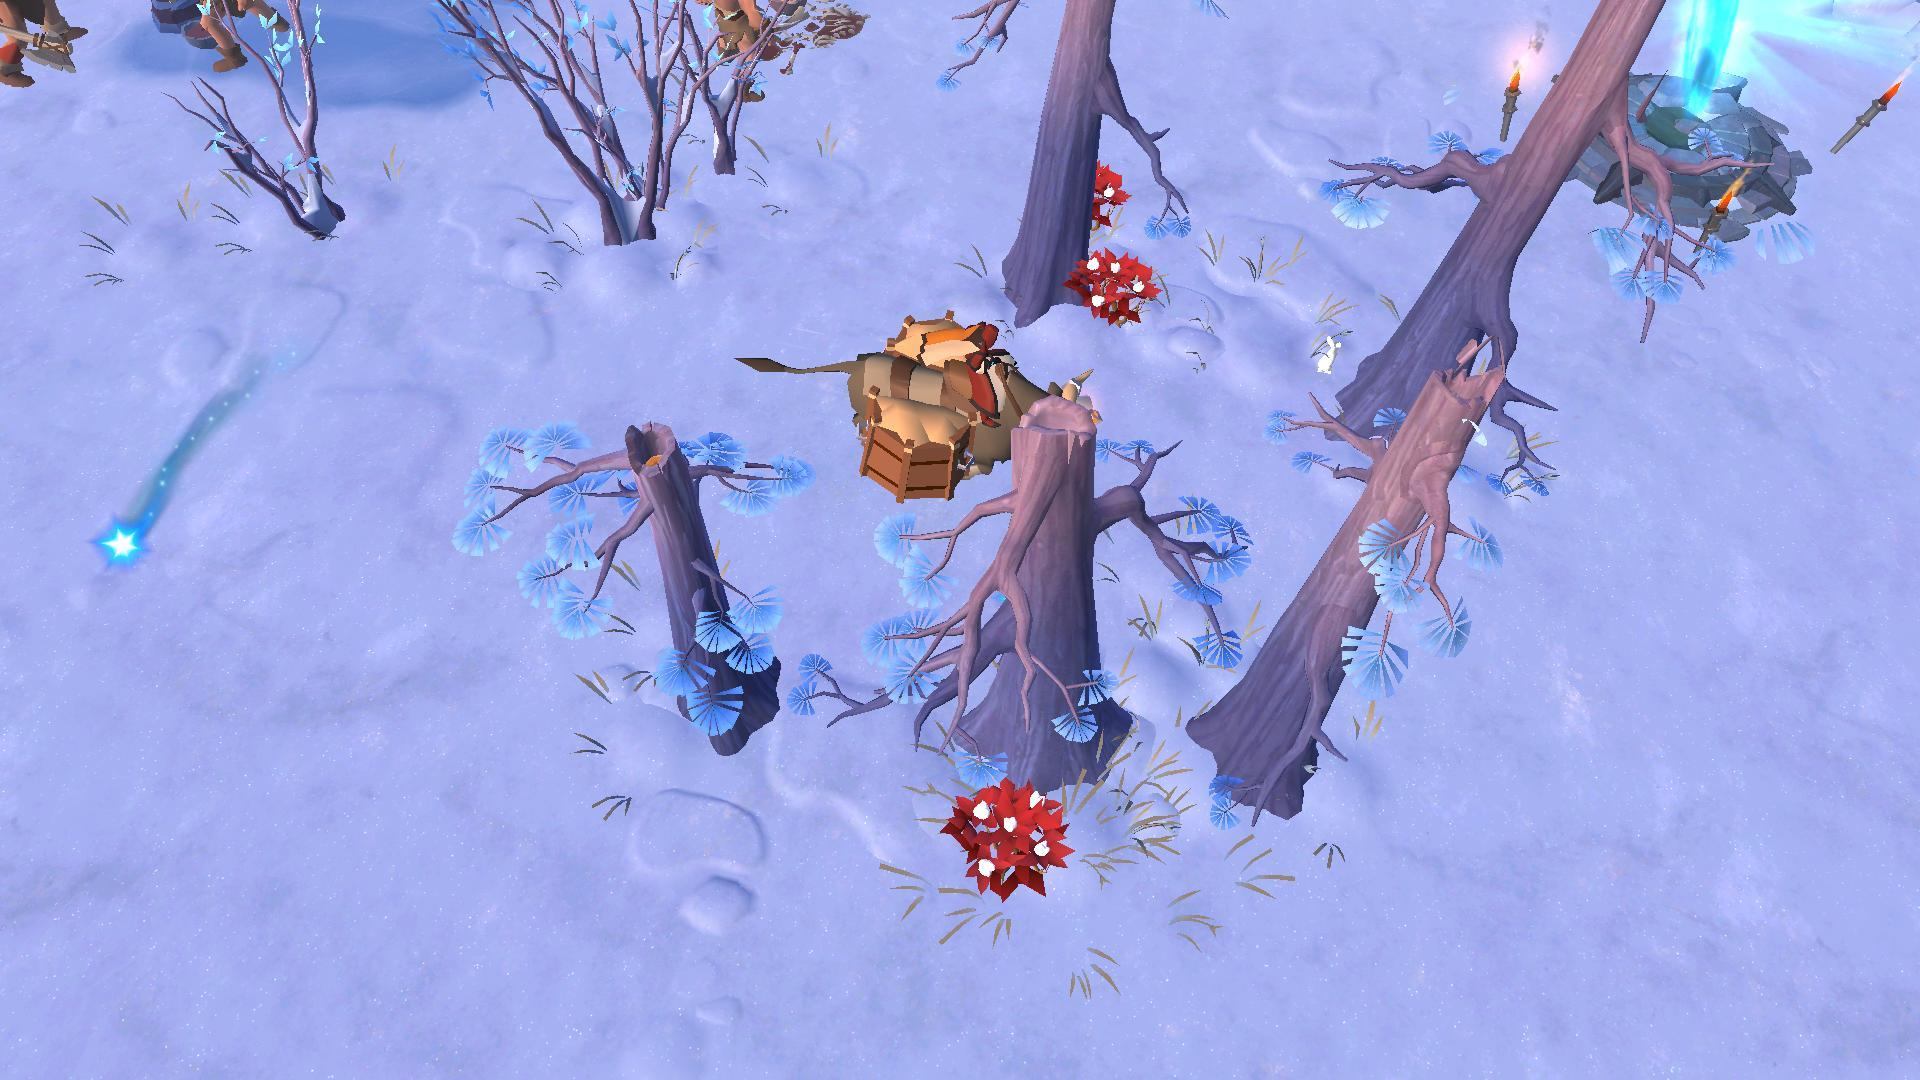fiber_t5: (939, 779, 1072, 903), (1069, 248, 1164, 327), (1081, 161, 1134, 227)
